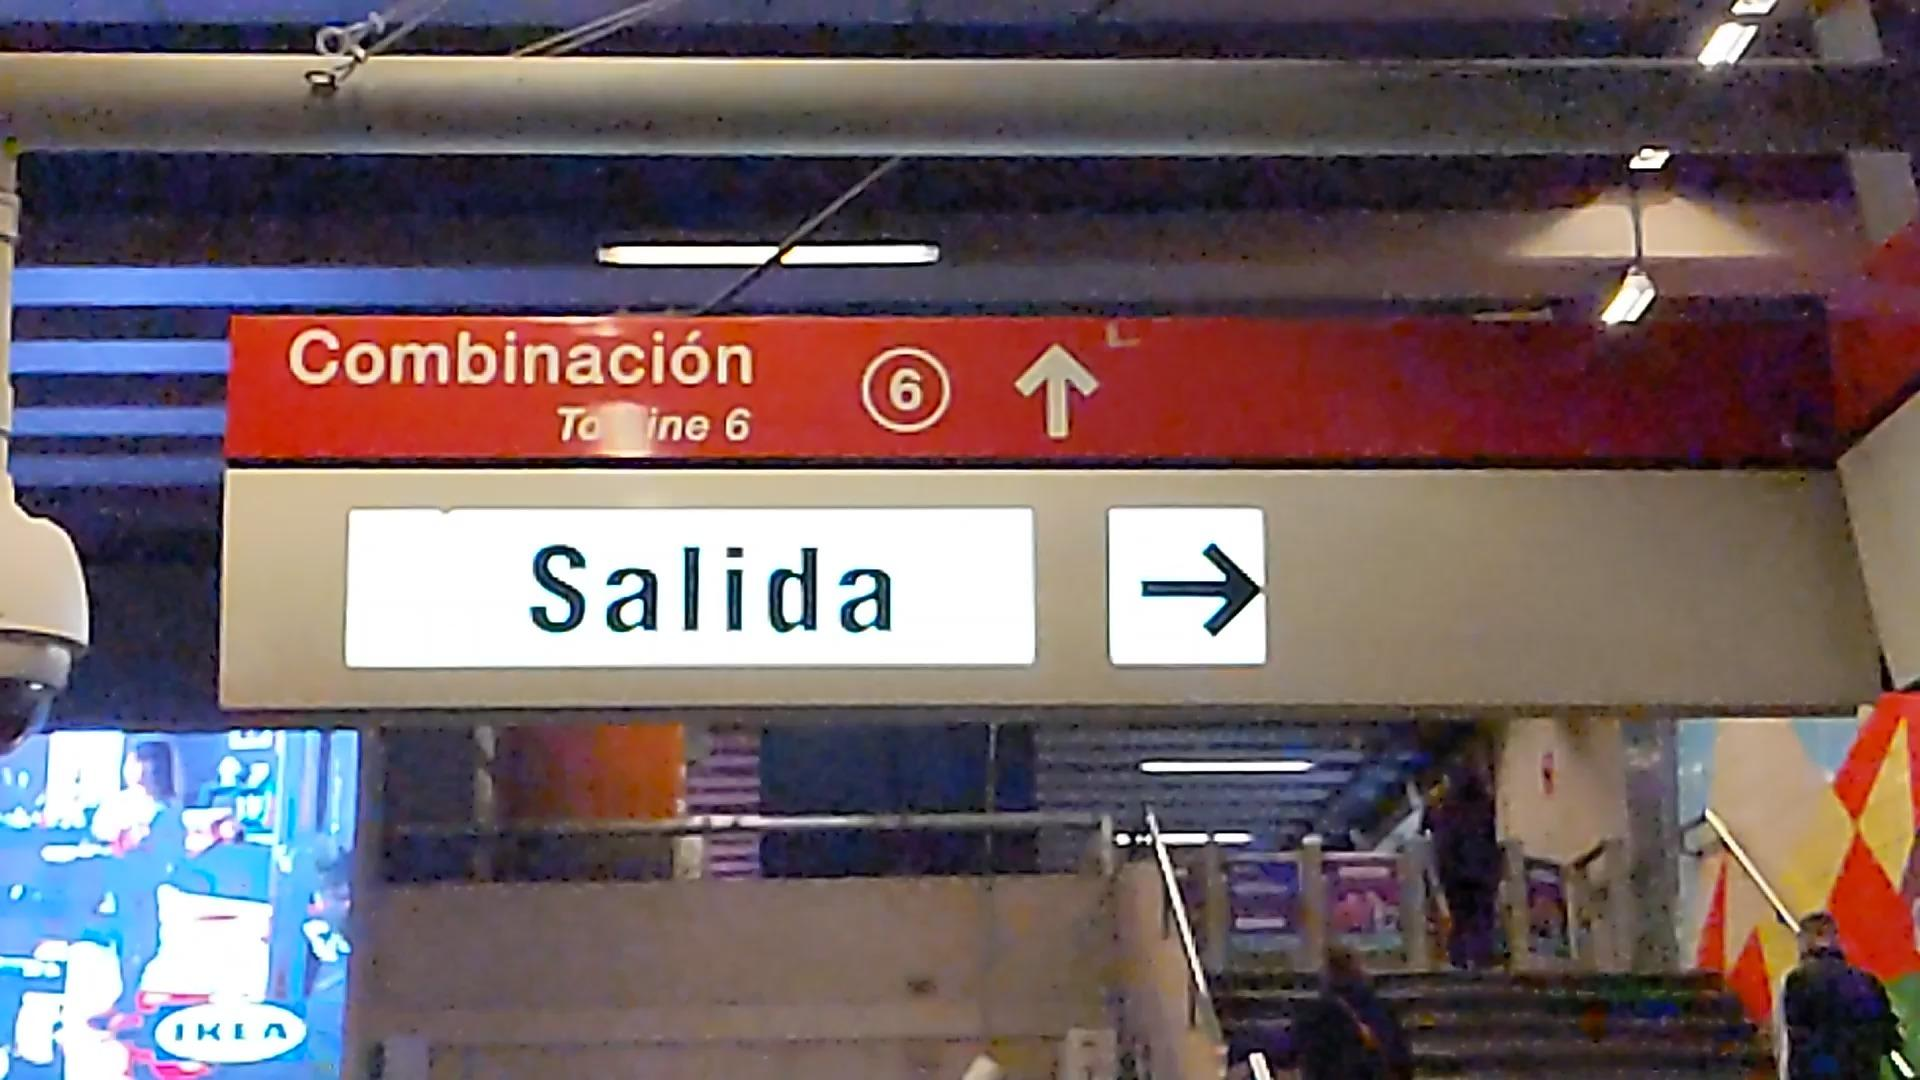right arrow: (1130, 535, 1263, 640)
up arrow: (1009, 343, 1104, 444)
